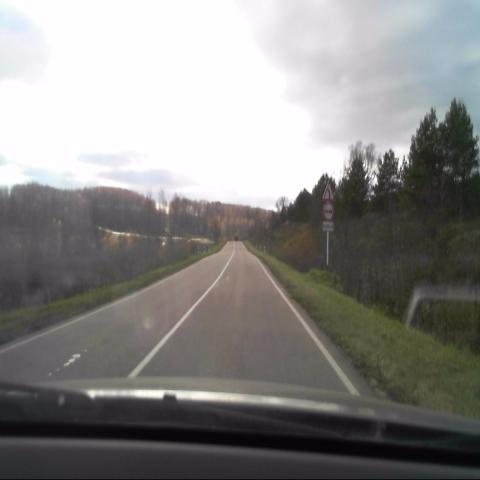1_11_1: (321, 179, 335, 200)
